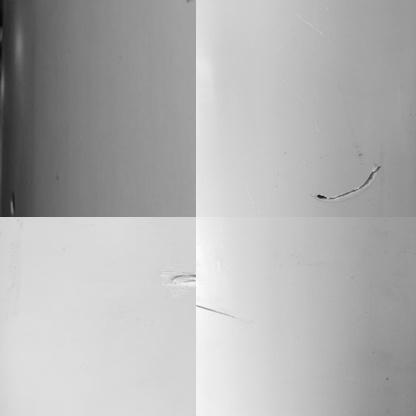fengxi: (311, 165, 382, 204)
kongdong: (6, 192, 19, 217)
sunshang: (195, 298, 234, 318), (164, 270, 196, 287)
